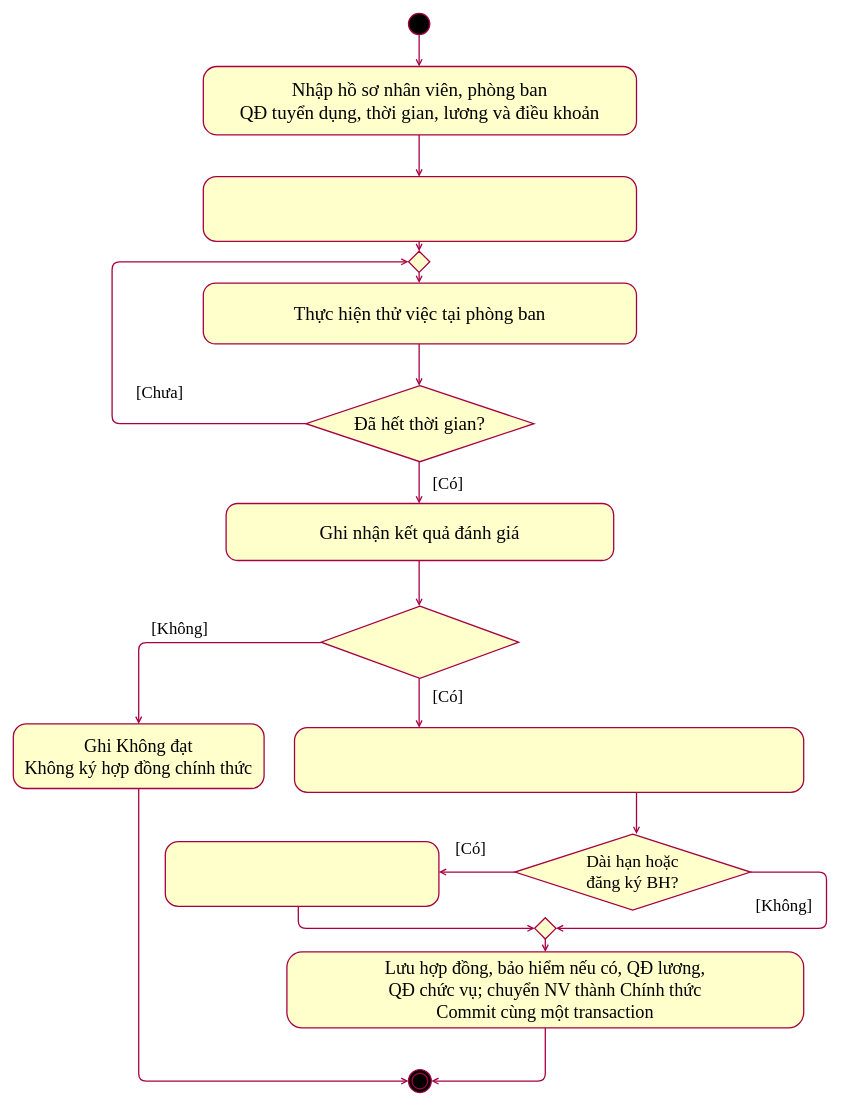
Image size: 847x1107. Some labels were removed from this diagram. Each missing label, with the centre of its shape:
Lưu nhân viên và QĐ thử việc trong cùng transaction: (x=419, y=209)
Nhập hợp đồng, QĐ lương và chức vụ ban đầu: (x=549, y=760)
Nhập đủ hồ sơ BHXH, BHYT và tỷ lệ đóng: (x=301, y=874)
Đạt?: (x=419, y=642)
